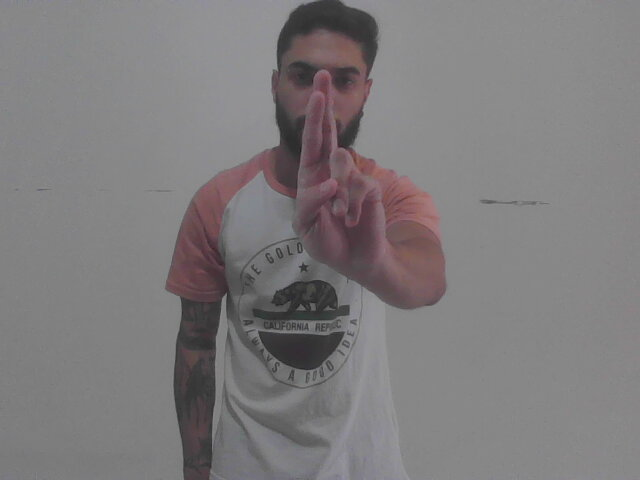r: (288, 62, 386, 280)
